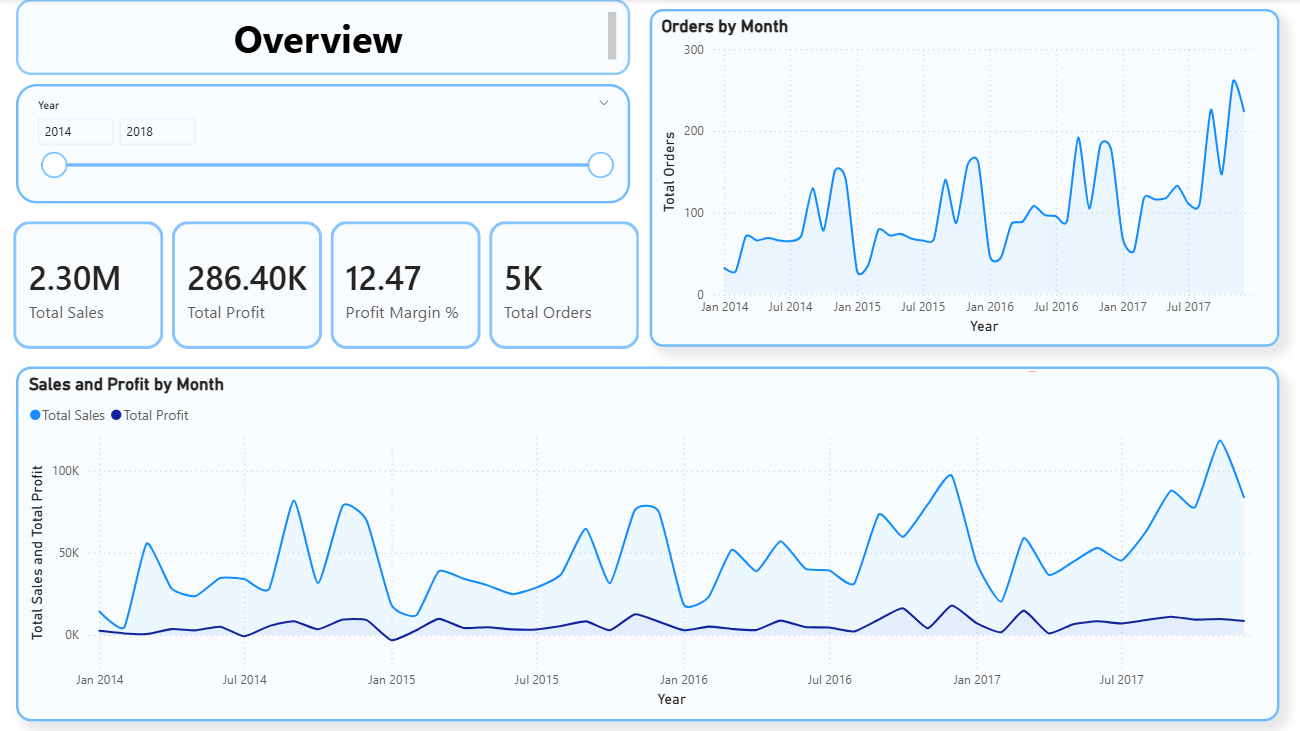

This screenshot's page, from the dashboard's own definition file:
{"tool":"powerbi","page":{"name":"Overview","canvas":[1280,720],"ordinal":0},"visuals":[{"type":"cardVisual","fields":{"Data":["fact_table.Total Sales","fact_table.Total Profit","fact_table.Profit Margin","fact_table.Total Orders"]},"box":[0,200.3,649.1,159.2],"z":0},{"type":"lineChart","title":"Sales and Profit by Month","fields":{"Y":["fact_table.Total Sales","fact_table.Total Profit"],"Category":["dimensiune_data_comanda.full_date.Variation.Date Hierarchy.Year","dimensiune_data_comanda.full_date.Variation.Date Hierarchy.Month"]},"box":[19.2,359.5,1236.4,347.2],"z":1000},{"type":"lineChart","title":"Orders by Month","fields":{"Category":["dimensiune_data_comanda.full_date.Variation.Date Hierarchy.Year","dimensiune_data_comanda.full_date.Variation.Date Hierarchy.Month"],"Y":["fact_table.Total Orders"]},"box":[639.5,9.6,616.1,330.7],"z":2000},{"type":"slicer","fields":{"Values":["dimensiune_data_comanda.date_year"]},"box":[19.2,83.7,601,116.6],"z":3000},{"type":"textbox","box":[19.2,0,601,74.1],"z":4000}]}

Visuals, with their boxes in screenshot pixels (x1, y1, x2, y2), scaled from the page's 1280x720 canvas onto the 1300x731 screenshot:
cardVisual - fact_table.Total Sales x fact_table.Total Profit: (left=0, top=203, right=659, bottom=365)
"Sales and Profit by Month" lineChart: (left=20, top=365, right=1275, bottom=717)
"Orders by Month" lineChart: (left=649, top=10, right=1275, bottom=345)
slicer - dimensiune_data_comanda.date_year: (left=20, top=85, right=630, bottom=203)
textbox: (left=20, top=0, right=630, bottom=75)
